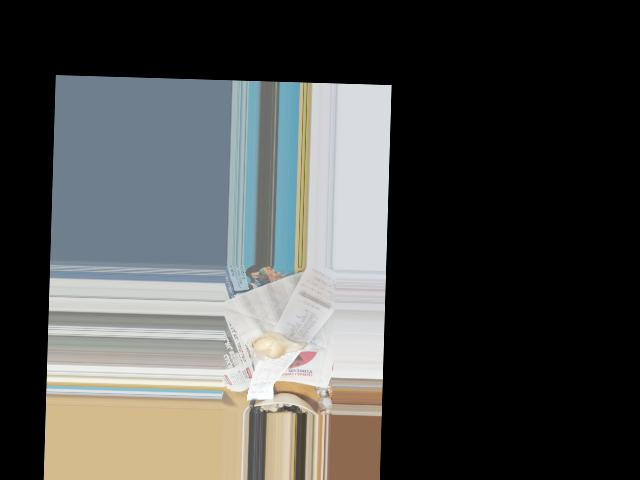onion: (250, 332, 297, 360)
